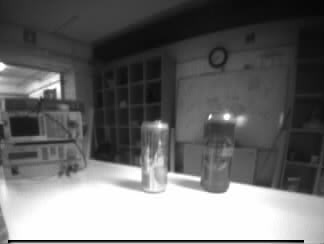Tin can: (202, 111, 233, 193), (140, 121, 168, 191)
